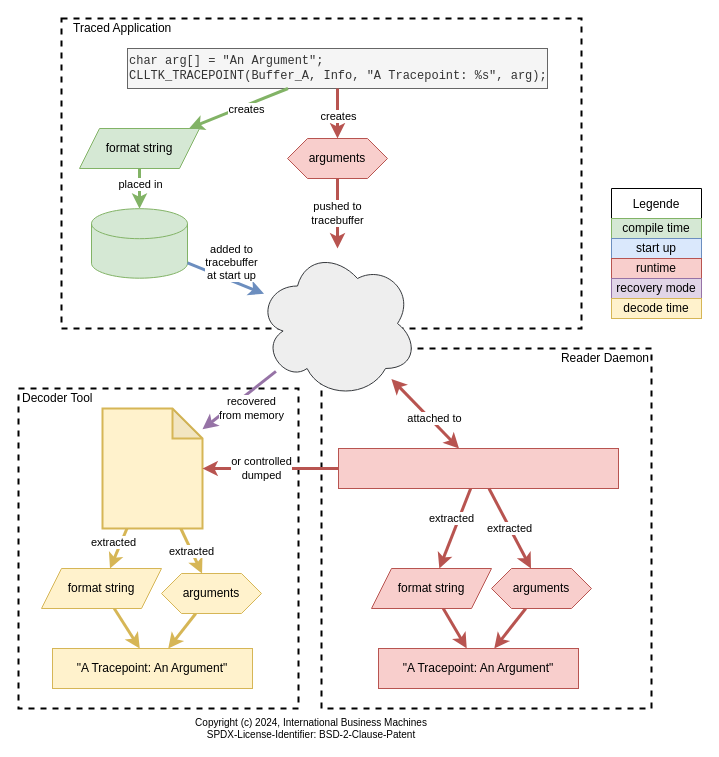
Image size: 719x757. Some labels were removed from this diagram. Each missing label, with the centre of its shape:
live reader daemon: point 478,468
Pool of tracebuffers: point 337,323
snapshot of tracebuffer: point 152,468
special elf section: point 139,243
